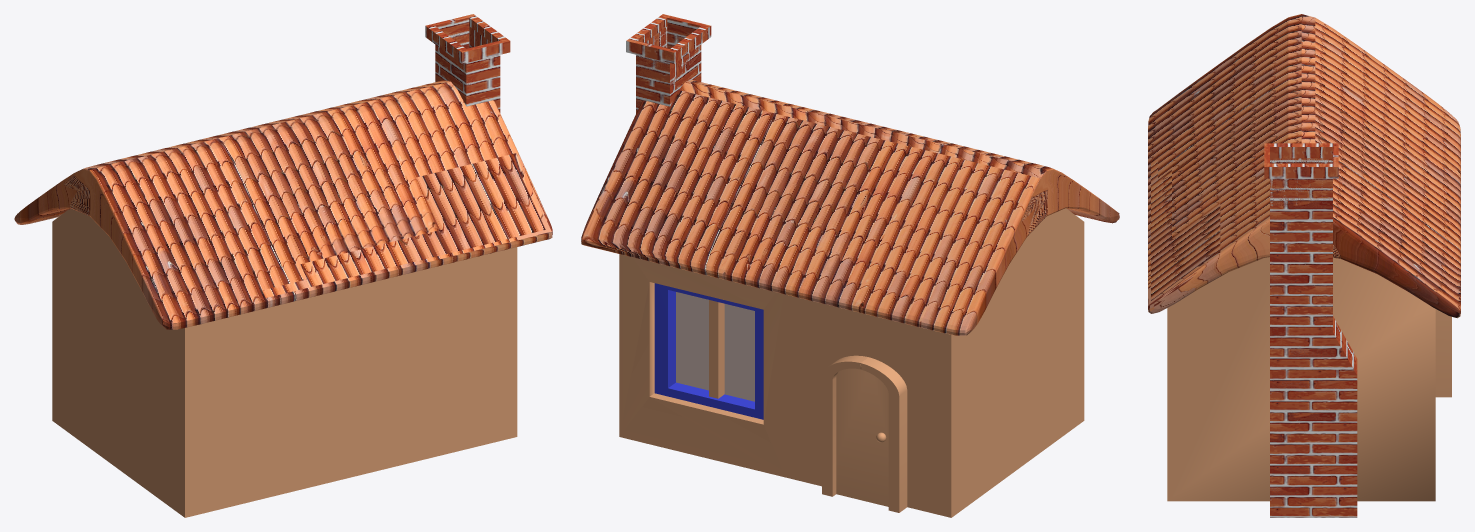
The model's file is home.fbx.
The picture shows the model from 3 angles, left to right: view 1: azimuth 30°, elevation 25°; view 2: azimuth 150°, elevation 25°; view 3: azimuth 270°, elevation 25°; orthographic projection.
Parts seen in each view (by area): view 1: Плоскость; view 2: Плоскость; view 3: Плоскость.
Part boxes in pixels (x1,y1,x2,y2): Плоскость: (14, 14, 552, 517); Плоскость: (581, 14, 1119, 517); Плоскость: (1148, 14, 1460, 517).
Size of the model in its own units: 1402 by 1168 by 935.
